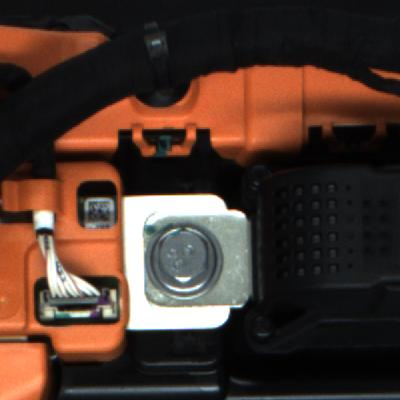nut_b: (139, 211, 254, 302)
